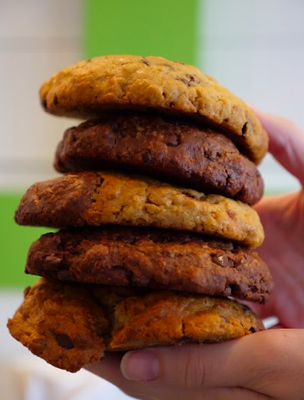pizza: (105, 328, 304, 400)
